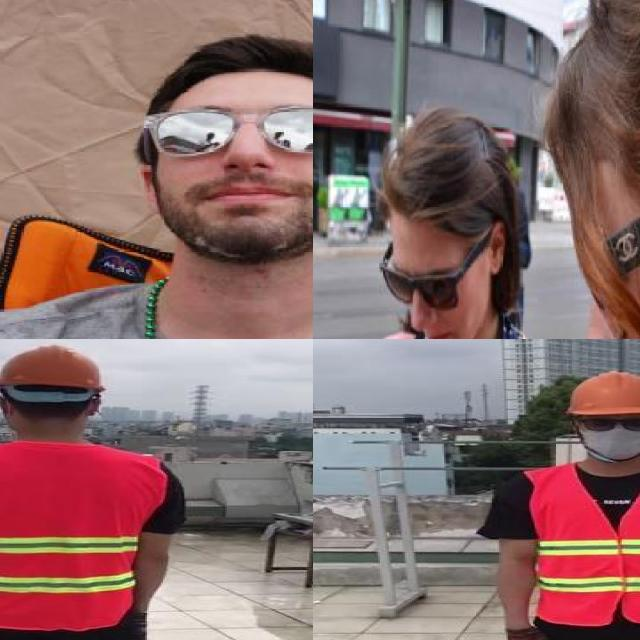face_mask: (576, 414, 640, 461)
face_nomask: (153, 98, 313, 227), (564, 216, 640, 339), (378, 254, 475, 339)
glasses: (142, 94, 313, 156), (372, 257, 464, 313), (571, 413, 640, 435)
hand_glove: (502, 623, 561, 640), (118, 610, 147, 640)
head_helmet: (0, 342, 109, 392), (568, 369, 640, 418)
head_nohelmet: (553, 0, 640, 210), (373, 139, 502, 236), (154, 33, 313, 96)
person: (0, 36, 313, 339), (0, 339, 195, 640), (332, 106, 583, 339), (501, 368, 640, 640)
vest: (0, 442, 165, 628), (527, 463, 640, 623)
